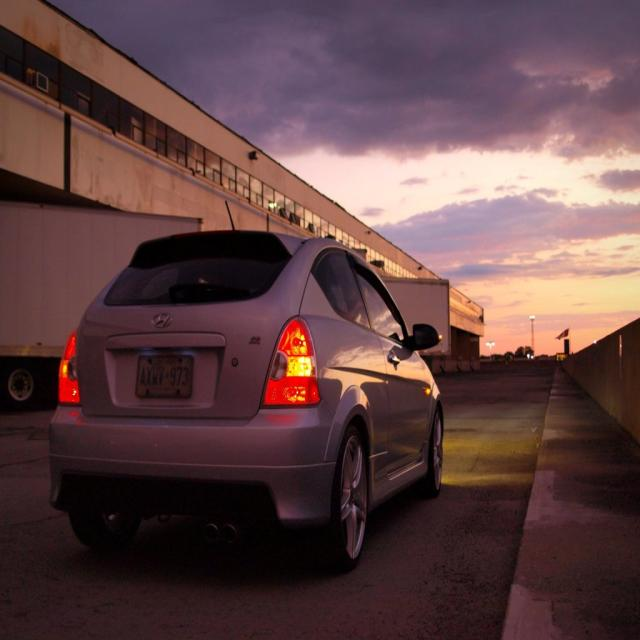car: (50, 198, 445, 569)
